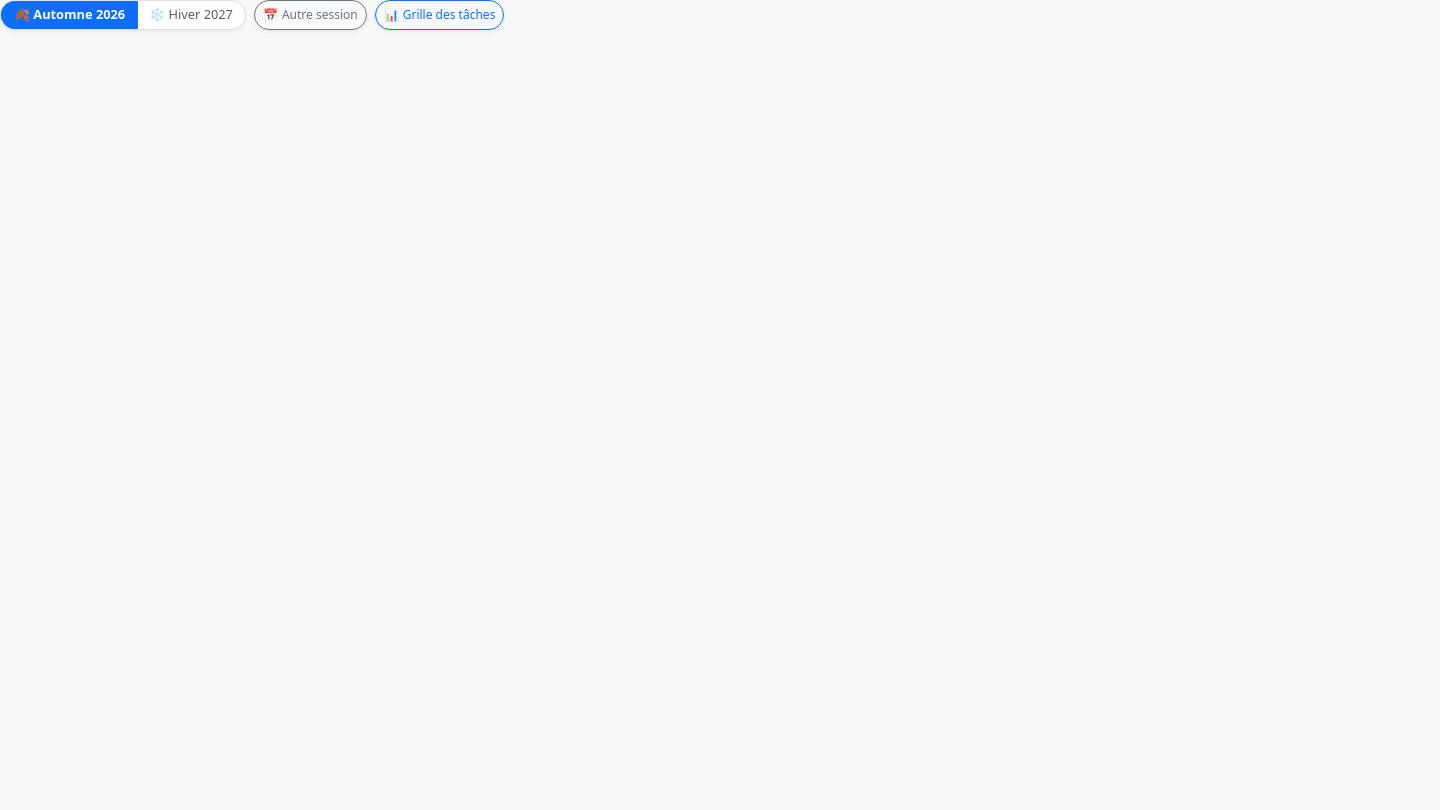
Scenario: AdminSessionSwitcher › opens modal on "Autre session" and allows navigating to a custom session
Expected: the text "Sélectionner une autre session" is not shown
Click the button "📅 Autre session".
click(310, 15)  # box [254, 0, 367, 30]
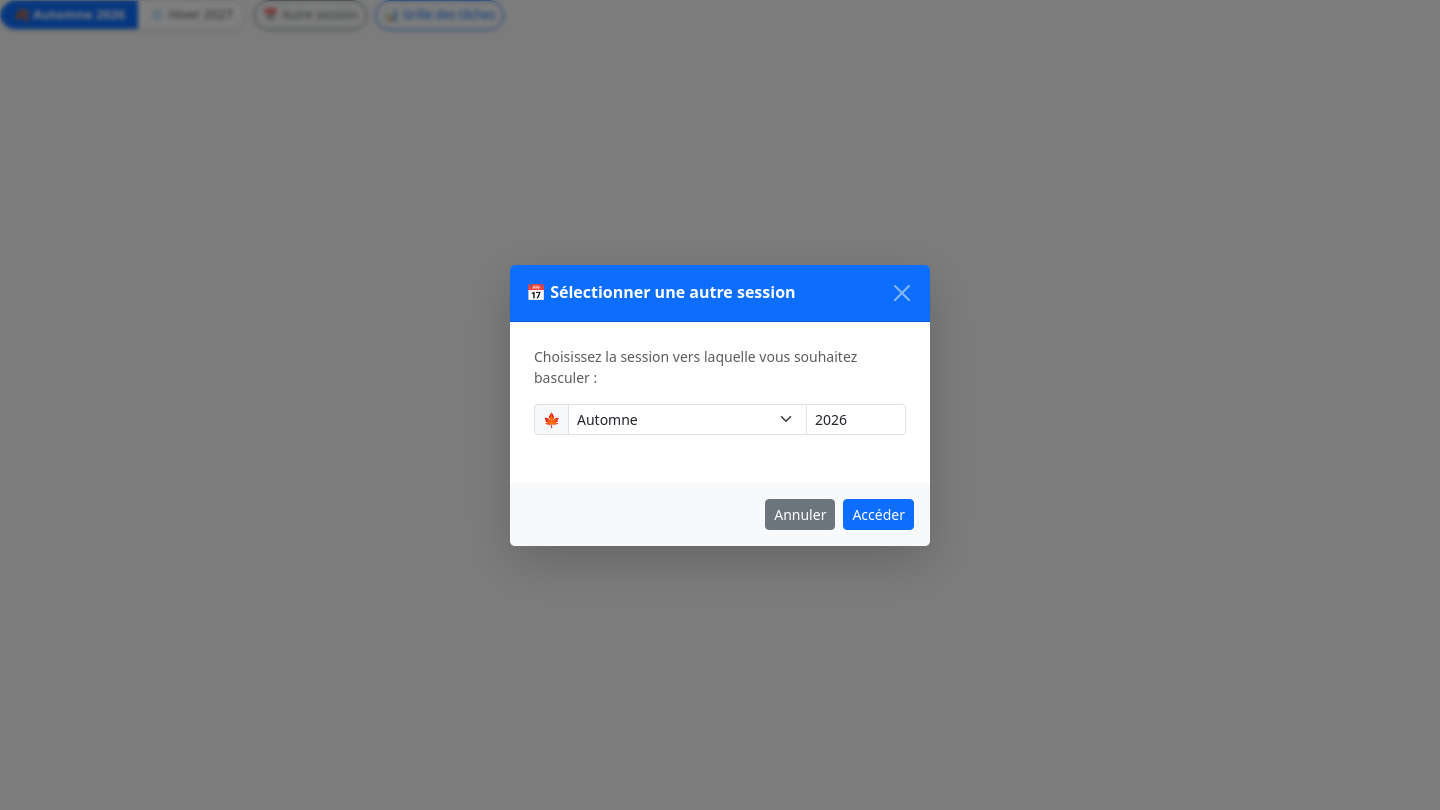
Expected: the text "Sélectionner une autre session" is shown, [526, 281, 796, 303]
Expected: the number field is shown, [806, 404, 906, 434]
Expected: the dropdown named "saison" is shown
Select "Hiver" in the dropdown named "saison" at (688, 419), box [568, 404, 807, 434]
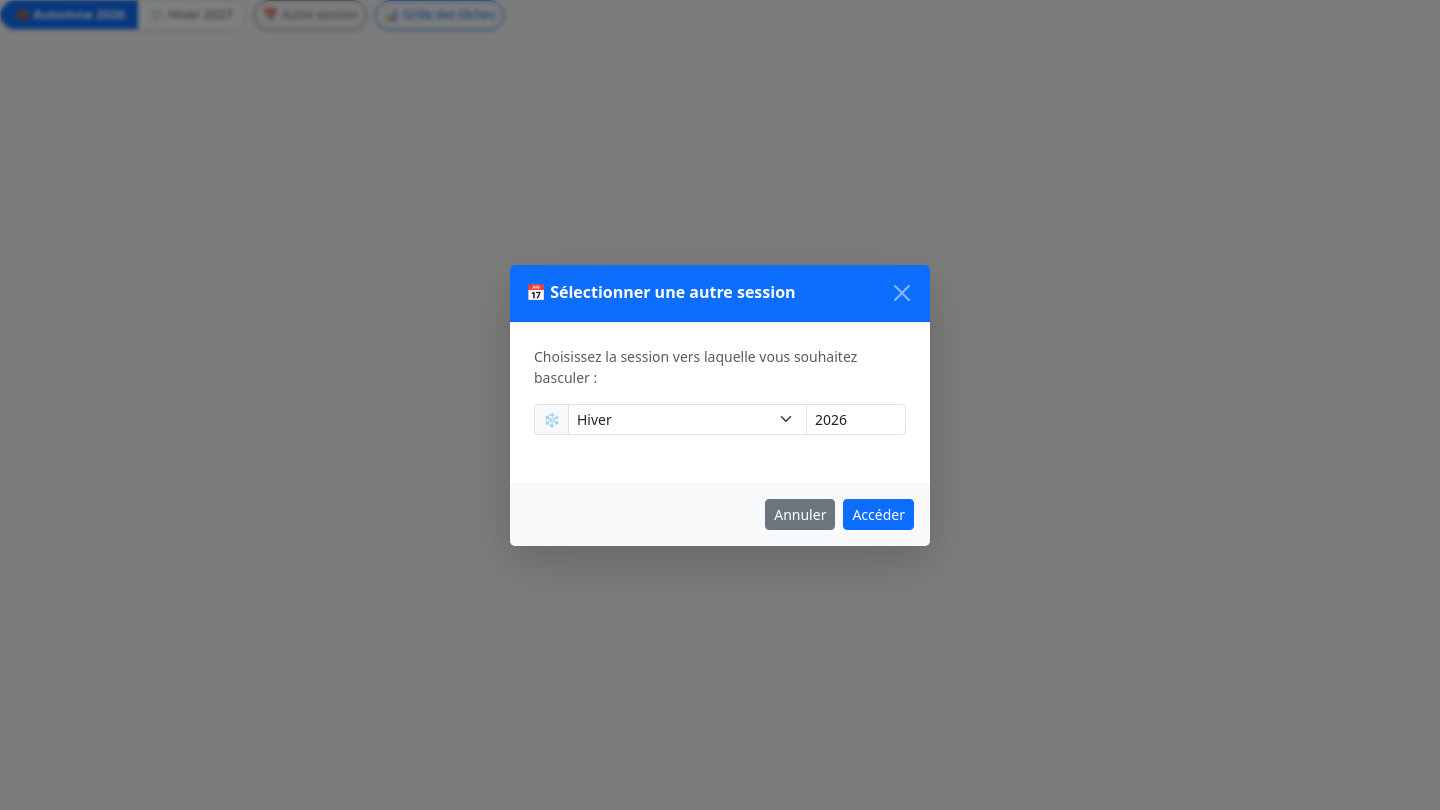
Click the button "Accéder".
click(879, 514)  # box [843, 498, 914, 530]
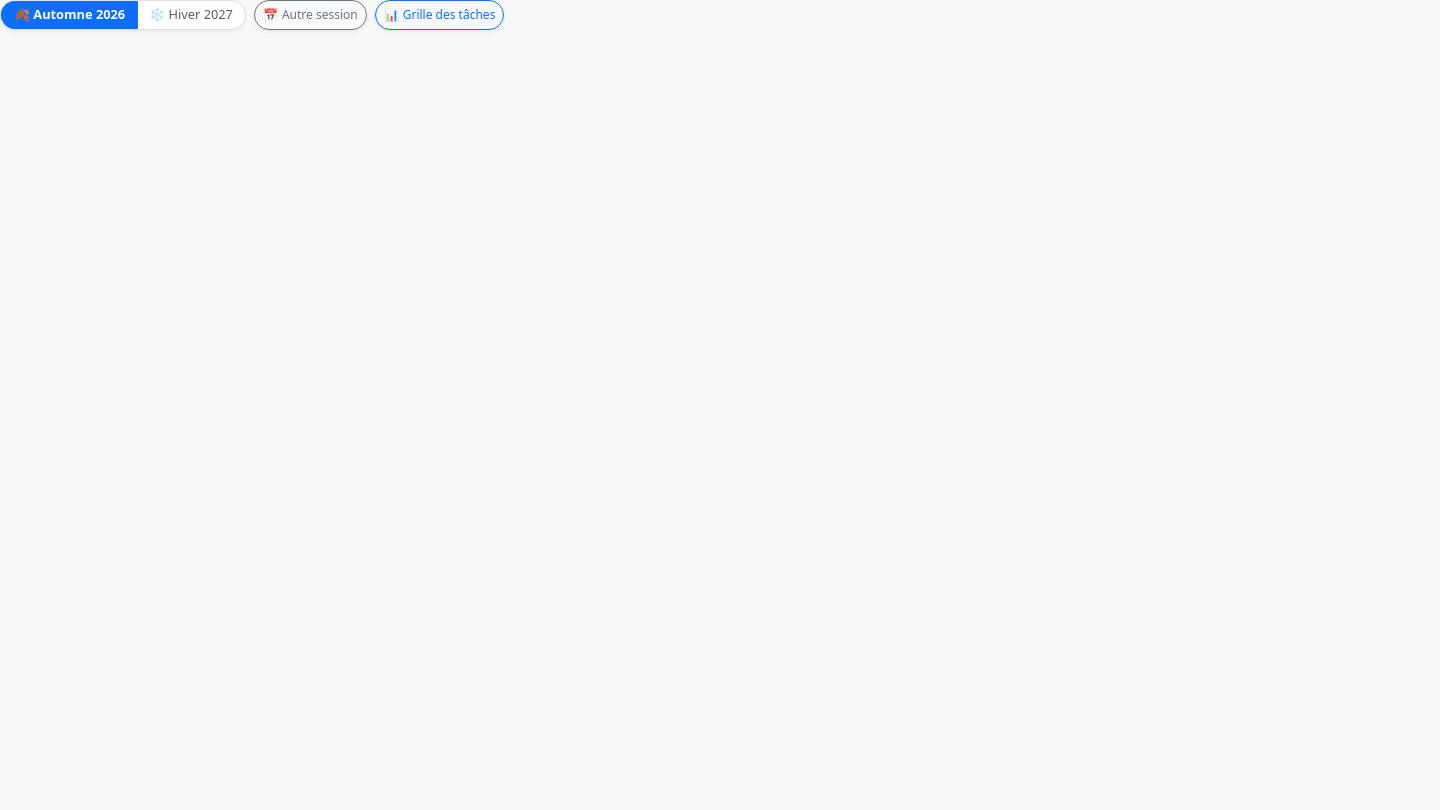
Expected: the text "Sélectionner une autre session" is gone
